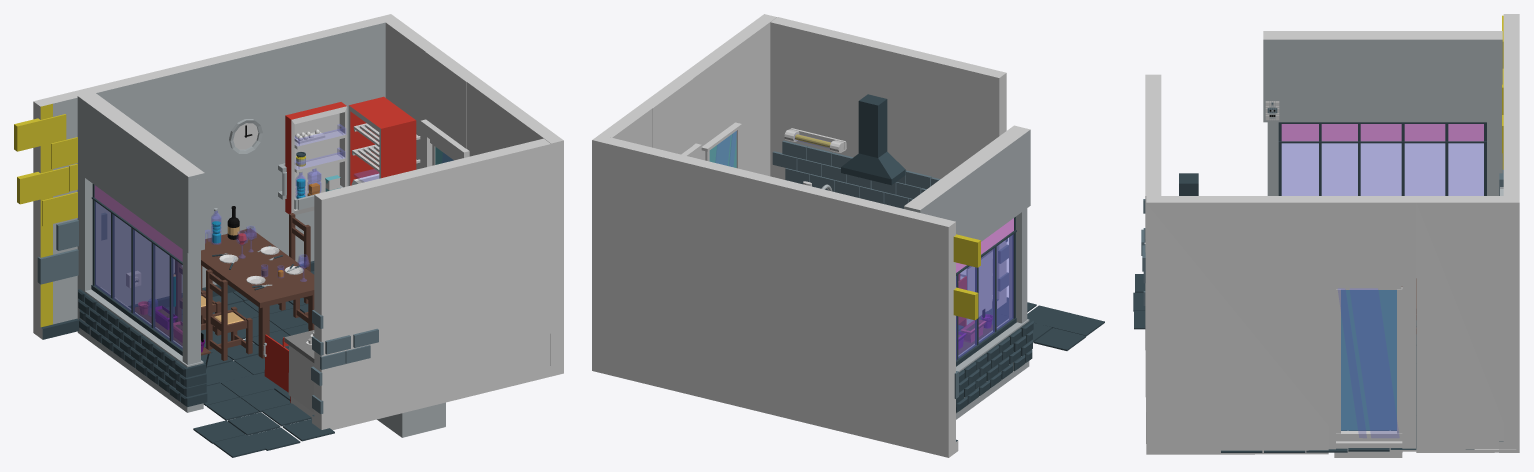
3 views of the same model, side by side, from view 1: azimuth 30°, elevation 25°; view 2: azimuth 150°, elevation 25°; view 3: azimuth 270°, elevation 25° (orthographic). The views are drawn at different scales.
Parts seen in each view (by area): view 1: node_MeshObject1714187264-PolyPaper21, node_MeshObject570029056-PolyPaper20, node_MeshObject-292463616-PolyPaper21, node_MeshObject-864542720-PolyPaper11, node_MeshObject1142108160-PolyGlass24, node_MeshObject279615488-PolyPaper16, node_MeshObject851694592-PolyPaper16, node_MeshObject1423773696-PolyPaper23, node_MeshObject-2008700928-PolyGem25; view 2: node_MeshObject570029056-PolyPaper20, node_MeshObject1714187264-PolyPaper21, node_MeshObject-292463616-PolyPaper21, node_MeshObject1142108160-PolyGlass24, node_MeshObject279615488-PolyPaper16, node_MeshObject851694592-PolyPaper16; view 3: node_MeshObject-292463616-PolyPaper21, node_MeshObject1142108160-PolyGlass24, node_MeshObject1714187264-PolyPaper21, node_MeshObject570029056-PolyPaper20, node_MeshObject-2008700928-PolyGem25, node_MeshObject279615488-PolyPaper16, node_MeshObject-864542720-PolyPaper11, node_MeshObject-1436621824-PolyPaper21.
Part boxes in pixels (bbox=[...]): node_MeshObject1714187264-PolyPaper21: bbox=[14, 92, 551, 450]; node_MeshObject570029056-PolyPaper20: bbox=[17, 14, 426, 412]; node_MeshObject-292463616-PolyPaper21: bbox=[78, 19, 563, 412]; node_MeshObject-864542720-PolyPaper11: bbox=[166, 96, 420, 392]; node_MeshObject1142108160-PolyGlass24: bbox=[95, 124, 453, 349]; node_MeshObject279615488-PolyPaper16: bbox=[213, 266, 378, 457]; node_MeshObject851694592-PolyPaper16: bbox=[158, 129, 345, 443]; node_MeshObject1423773696-PolyPaper23: bbox=[307, 183, 445, 437]; node_MeshObject-2008700928-PolyGem25: bbox=[94, 185, 182, 261]; node_MeshObject570029056-PolyPaper20: bbox=[592, 135, 992, 457]; node_MeshObject1714187264-PolyPaper21: bbox=[687, 17, 1071, 419]; node_MeshObject-292463616-PolyPaper21: bbox=[599, 14, 1033, 413]; node_MeshObject1142108160-PolyGlass24: bbox=[715, 131, 1013, 359]; node_MeshObject279615488-PolyPaper16: bbox=[791, 94, 1104, 336]; node_MeshObject851694592-PolyPaper16: bbox=[803, 181, 1085, 350]; node_MeshObject-292463616-PolyPaper21: bbox=[1146, 45, 1504, 457]; node_MeshObject1142108160-PolyGlass24: bbox=[1281, 143, 1483, 437]; node_MeshObject1714187264-PolyPaper21: bbox=[1133, 15, 1503, 452]; node_MeshObject570029056-PolyPaper20: bbox=[1306, 14, 1519, 452]; node_MeshObject-2008700928-PolyGem25: bbox=[1281, 124, 1483, 141]; node_MeshObject279615488-PolyPaper16: bbox=[1135, 101, 1278, 292]; node_MeshObject-864542720-PolyPaper11: bbox=[1264, 314, 1516, 452]; node_MeshObject-1436621824-PolyPaper21: bbox=[1141, 101, 1279, 305].
Bounding box in the file's own units: 5.56 × 3.77 × 4.49.
